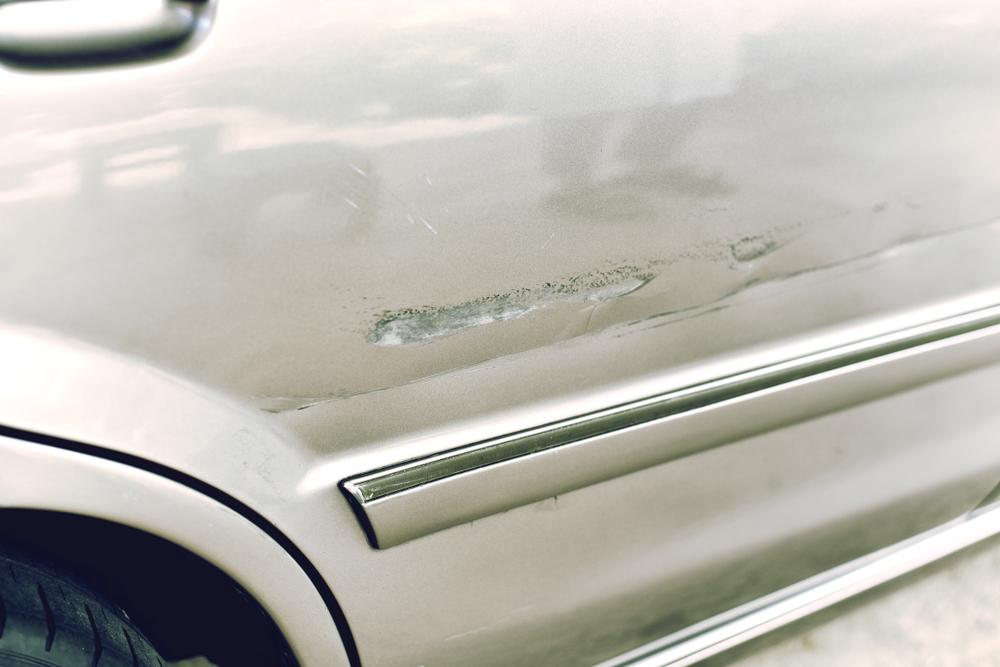scratch: (351, 195, 1000, 361)
